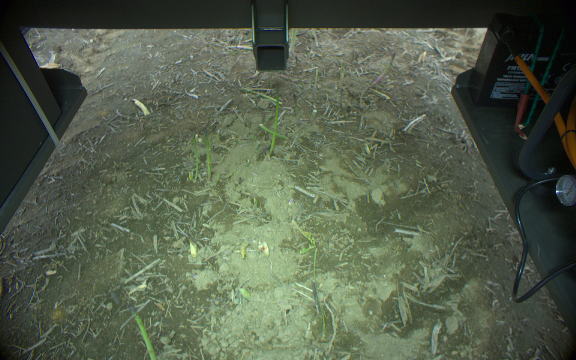aspa: (126, 304, 156, 360), (263, 89, 286, 159), (371, 49, 398, 90), (201, 129, 216, 184), (259, 121, 290, 145), (188, 129, 200, 182), (291, 91, 301, 127)
